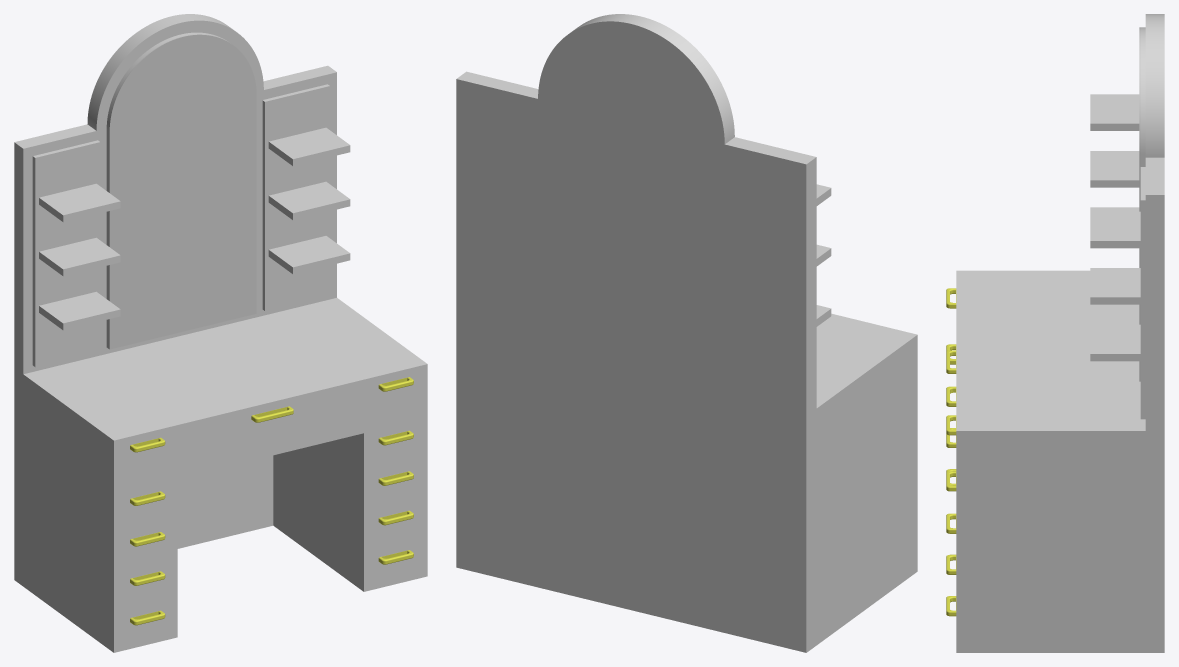
The model's file is dressing_table.gltf.
3 renders of one model, left to right at view 1: azimuth 30°, elevation 25°; view 2: azimuth 150°, elevation 25°; view 3: azimuth 270°, elevation 25°, orthographic. The views are drawn at different scales.
Visible parts, largest first — view 1: body_clone, glass_clone, handle_clone; view 2: body_clone; view 3: body_clone, handle_clone, glass_clone.
Boxes of the visible parts, x1,y1,x2,y2 form: body_clone: (14,14,427,652); glass_clone: (109,34,256,349); handle_clone: (130,377,413,625); body_clone: (456,14,917,652); body_clone: (956,14,1164,652); handle_clone: (946,288,956,616); glass_clone: (1139,27,1140,381).
Size of the model in its own units: 1.5 by 2.4 by 0.865.
